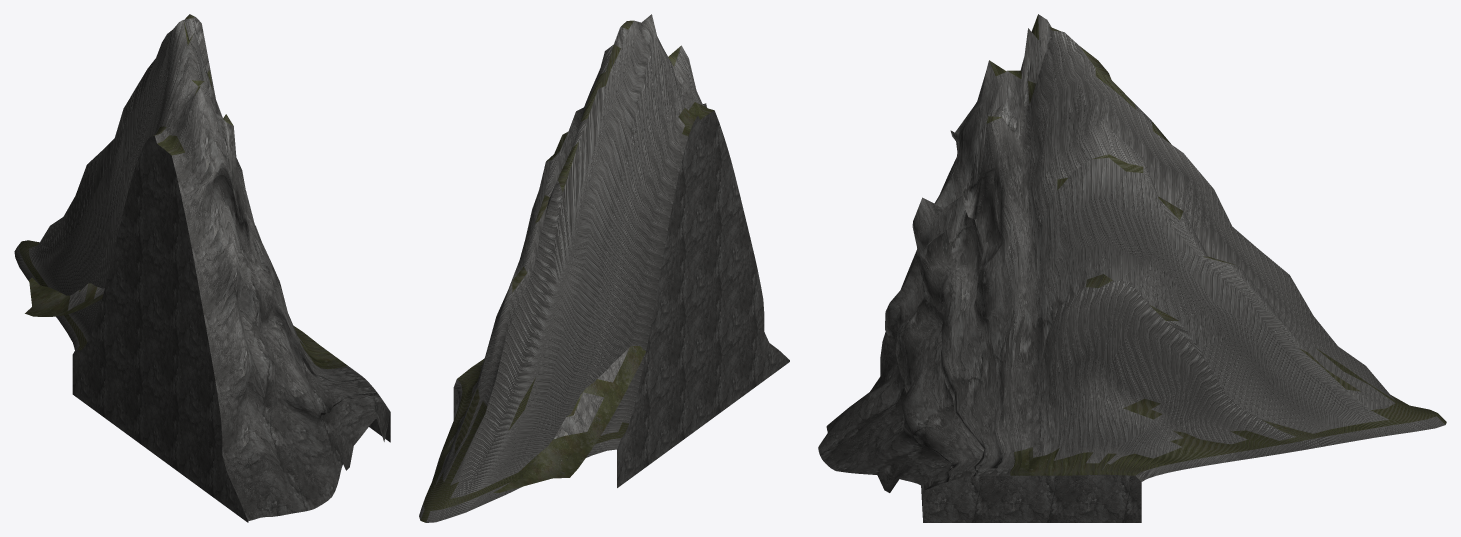
File: seacliff_endcap_right_h8_b_v5_summer.glb
The picture shows the model from 3 angles, left to right: view 1: azimuth 30°, elevation 25°; view 2: azimuth 150°, elevation 25°; view 3: azimuth 270°, elevation 25°; orthographic projection. The views are drawn at different scales.
Visible parts, largest first — view 1: seacliff_endcap_right_h8_b; view 2: seacliff_endcap_right_h8_b; view 3: seacliff_endcap_right_h8_b.
Boxes of the visible parts, left/top/right/bottom form: seacliff_endcap_right_h8_b: left=14, top=14, right=390, bottom=522; seacliff_endcap_right_h8_b: left=419, top=14, right=789, bottom=522; seacliff_endcap_right_h8_b: left=818, top=14, right=1446, bottom=522.
Size of the model in its own units: 6 by 12.72 by 16.74.
Materials: 2 (2 with a texture image).
